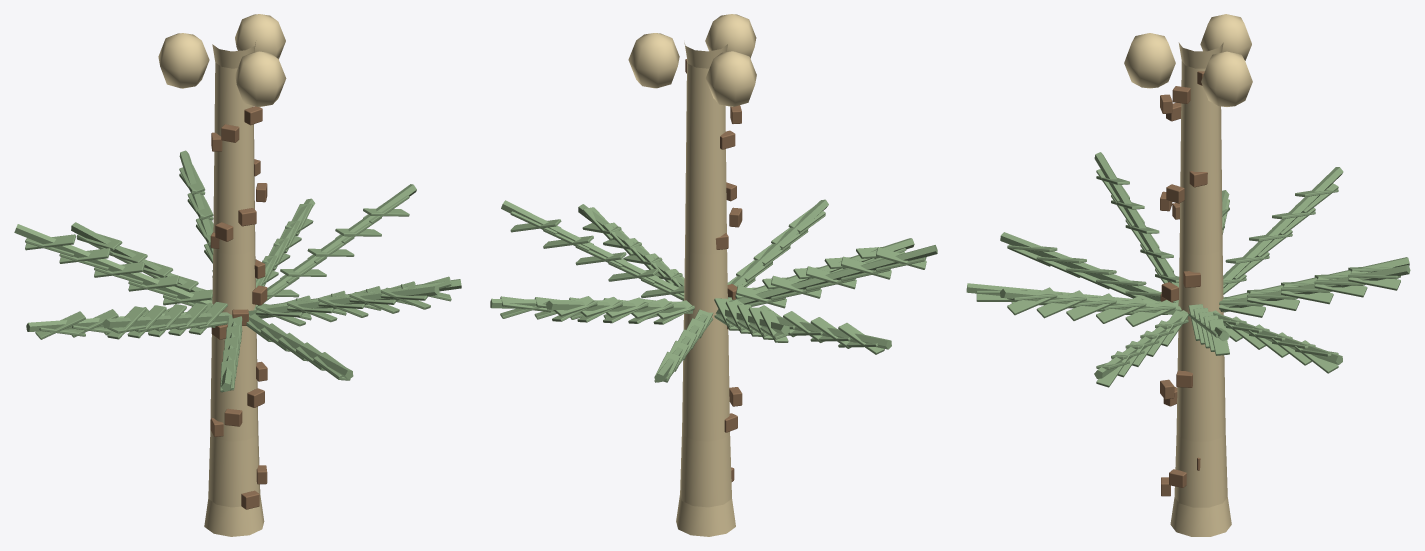
Rendered from date_palm.glb.
3 renders of one model, left to right at view 1: azimuth 30°, elevation 25°; view 2: azimuth 150°, elevation 25°; view 3: azimuth 270°, elevation 25°, orthographic.
Parts seen in each view (by area): view 1: date-palm; view 2: date-palm; view 3: date-palm.
Part boxes in pixels (x1,y1,x2,y2): date-palm: [14, 14, 461, 536]; date-palm: [490, 14, 937, 536]; date-palm: [966, 14, 1410, 536].
Size of the model in its own units: 143570 by 173665 by 142097.
